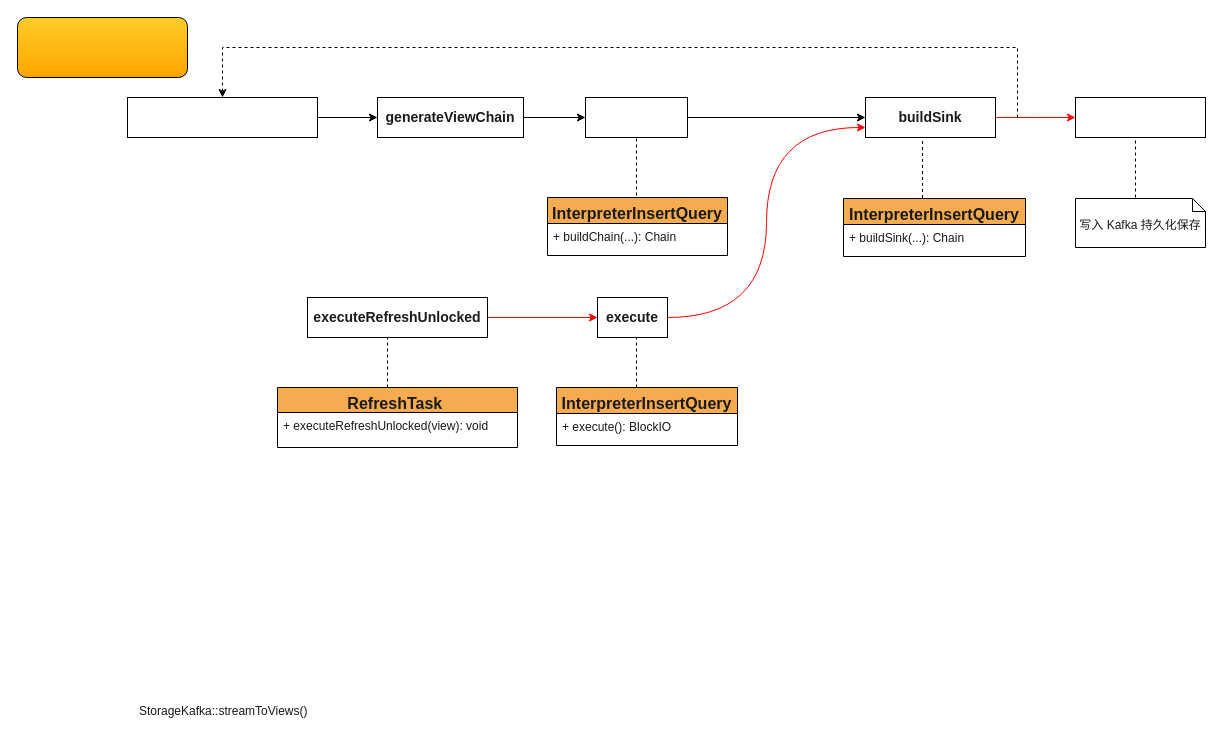
Image size: 1223x755. Some labels were removed from this diagram. Each missing label, with the centre of its shape:
"buildChain" goes at (636,117).
"buildPushingToViewsChain" goes at (222,117).
"Kafka::write()" goes at (1140,117).
"Materialized View" goes at (102,47).
